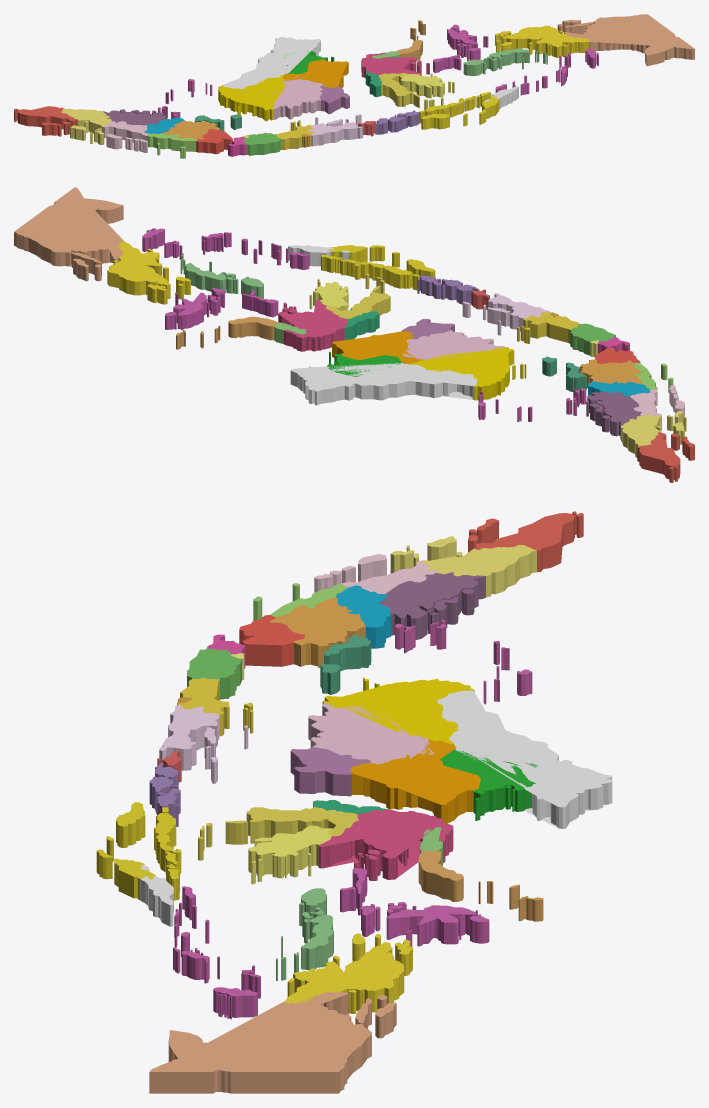
The model's file is peta indonesia revisi.fbx.
The picture shows the model from 3 angles, top to bottom: view 1: azimuth 30°, elevation 25°; view 2: azimuth 150°, elevation 25°; view 3: azimuth 270°, elevation 25°; orthographic projection. The views are drawn at different scales.
Visible parts, largest first — view 1: papua_irian_jaya, maluku_utara, malaysia, papua_barat, kalimantan_barat, polySurface2, kalimantan_tengah, nad, maluku, kalimantan_timur, jawa_timur, sumatera_barat (+20 smaller); view 2: papua_irian_jaya, malaysia, maluku_utara, papua_barat, polySurface2, kalimantan_barat, sulawesi_tengah, kalimantan_tengah, kalimantan_timur, nad, riau, sumatera_utara (+19 smaller); view 3: papua_irian_jaya, malaysia, maluku_utara, kalimantan_timur, sulawesi_tengah, papua_barat, kalimantan_barat, kalimantan_tengah, riau, polySurface2, sumatera_utara, sulawesi_selatan (+18 smaller).
Part boxes in pixels (x1,y1,x2,y2): papua_irian_jaya: (557, 14, 694, 66); maluku_utara: (433, 24, 598, 95); malaysia: (223, 36, 320, 88); papua_barat: (495, 25, 589, 57); kalimantan_barat: (218, 75, 285, 121); polySurface2: (419, 92, 499, 129); kalimantan_tengah: (270, 76, 322, 119); nad: (14, 106, 77, 136); maluku: (463, 48, 547, 75); kalimantan_timur: (282, 59, 348, 87); jawa_timur: (307, 114, 362, 146); sumatera_barat: (103, 121, 148, 152); papua_irian_jaya: (14, 187, 124, 281); malaysia: (290, 363, 477, 405); maluku_utara: (142, 228, 309, 330); papua_barat: (107, 241, 190, 304); polySurface2: (321, 245, 435, 290); kalimantan_barat: (410, 347, 526, 400); sulawesi_tengah: (278, 299, 348, 351); kalimantan_tengah: (403, 330, 504, 359); kalimantan_timur: (332, 331, 423, 364); nad: (637, 432, 694, 482); riau: (586, 391, 641, 439); sumatera_utara: (621, 410, 686, 457); papua_irian_jaya: (149, 992, 396, 1093); malaysia: (437, 690, 612, 828); maluku_utara: (173, 867, 489, 1019); kalimantan_timur: (350, 739, 480, 823); sulawesi_tengah: (318, 809, 453, 880); papua_barat: (284, 933, 412, 1013); kalimantan_barat: (322, 677, 474, 744); kalimantan_tengah: (308, 703, 434, 764); riau: (378, 572, 485, 639); polySurface2: (96, 802, 181, 900); sumatera_utara: (390, 536, 536, 597); sulawesi_selatan: (198, 806, 358, 860).
Size of the model in its own units: 22.33 by 0.4065 by 8.68.
